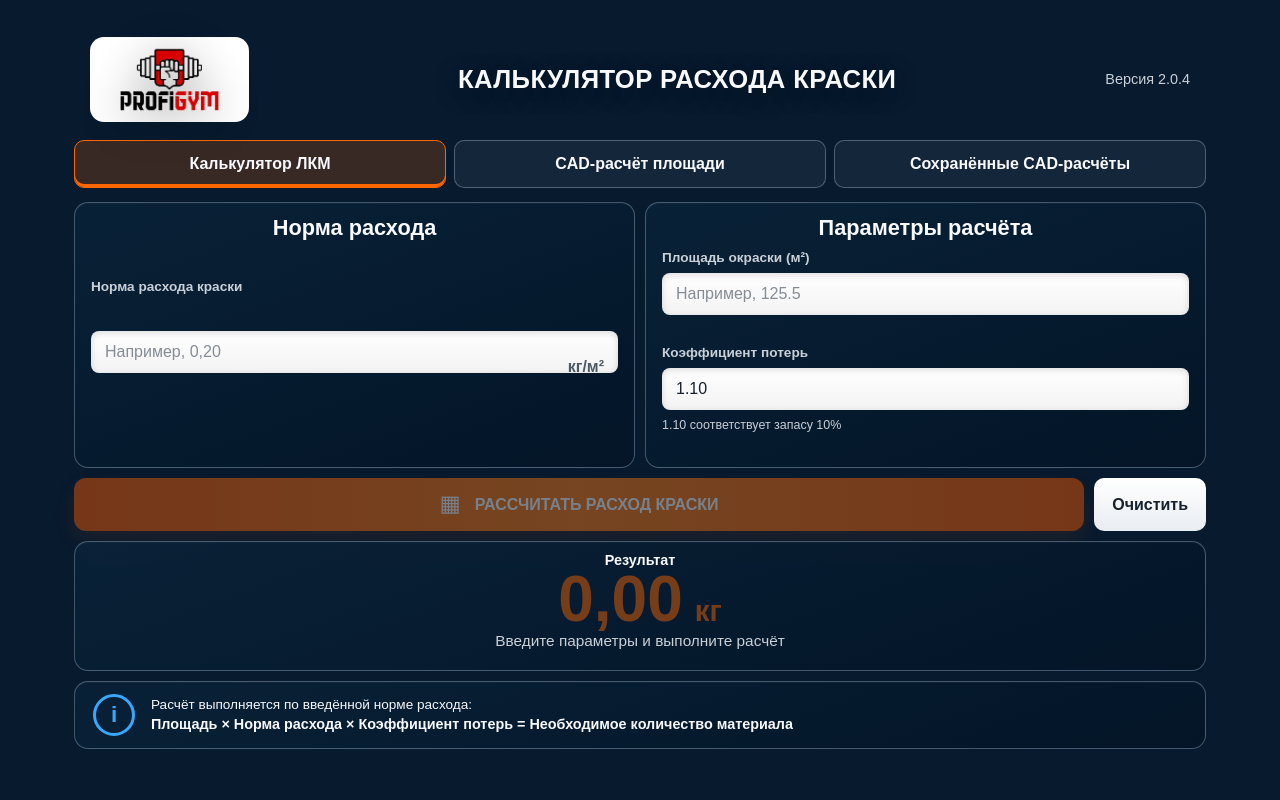
Test case: CalculatorPage startup › keeps CAD and saved calculations available through navigation
Click the button "CAD-расчёт площади". click: click(640, 164)
box: [454,140,826,188]
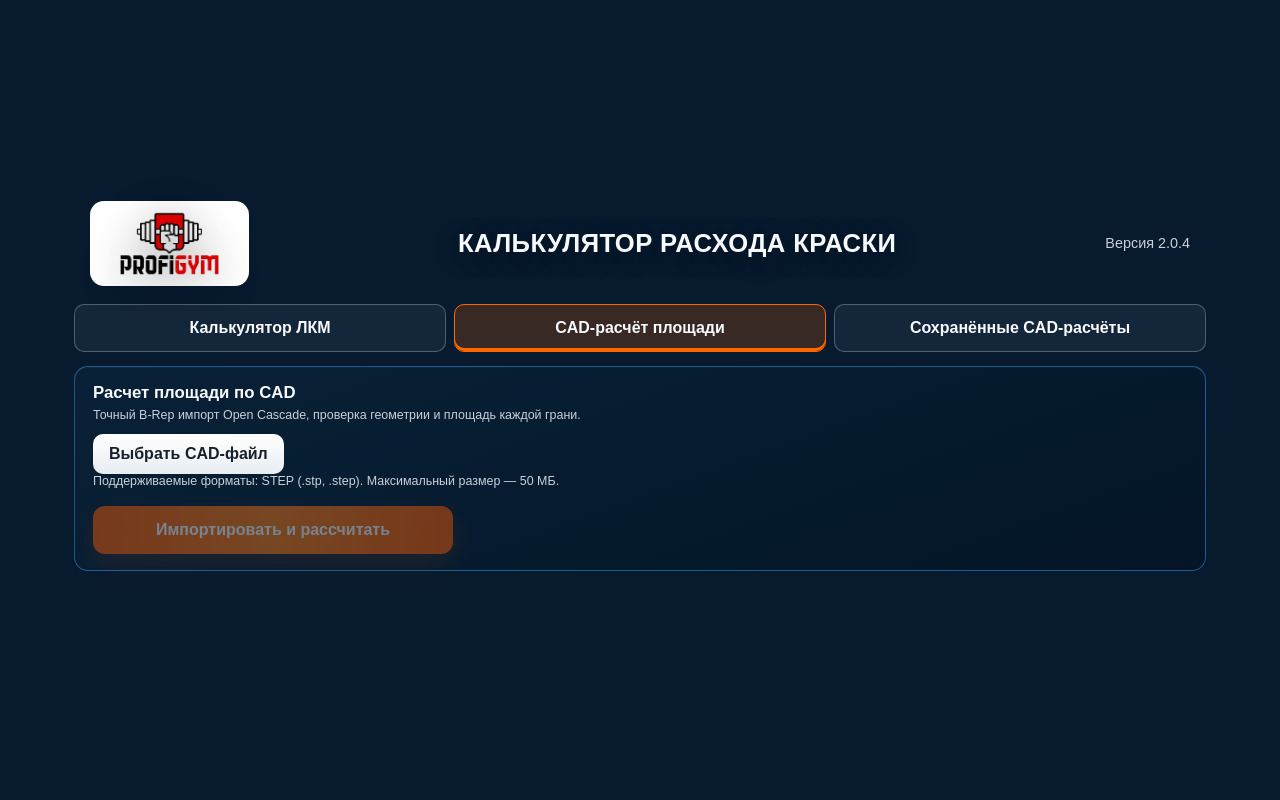
Click the button "Сохранённые CAD-расчёты". click: click(1020, 328)
box: [834,304,1206,352]
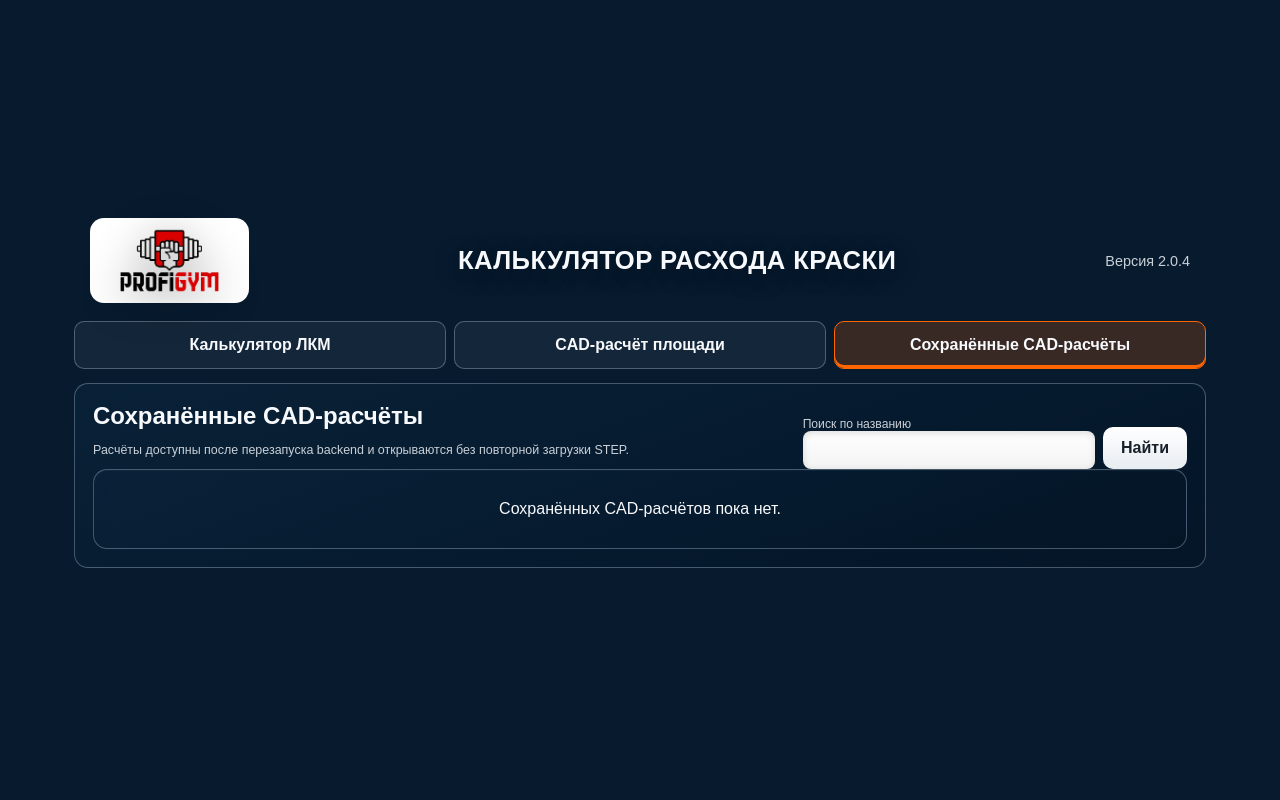
Expected: the heading "Сохранённые CAD-расчёты" is shown, [93,402,423,429]
